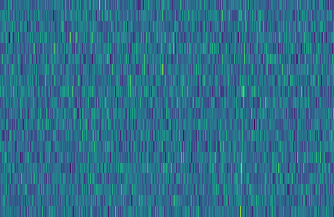signal: (237, 0, 251, 217)
